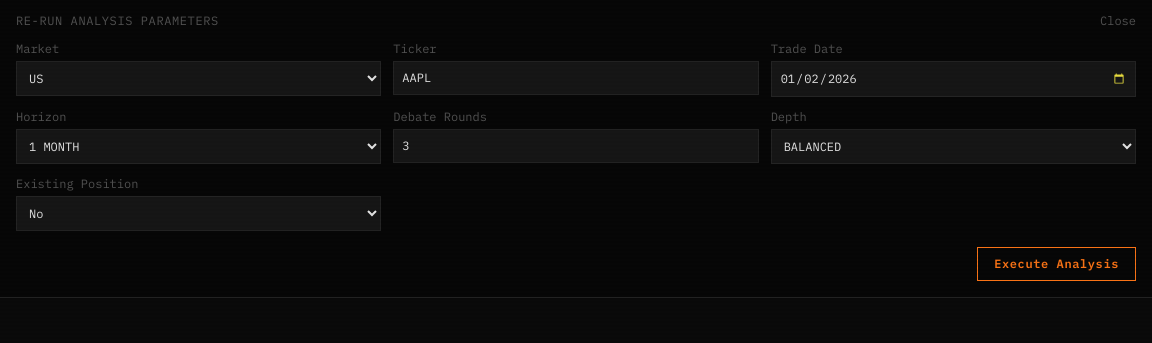
Test: RerunPanel › shows a validation error instead of submitting
The width and height of the screenshot is (1152, 343).
Empty ticker passes browser constraint validation but fails the domain check.
Clear the field labelled "Ticker" at (576, 78), box 393,61 -> 759,95
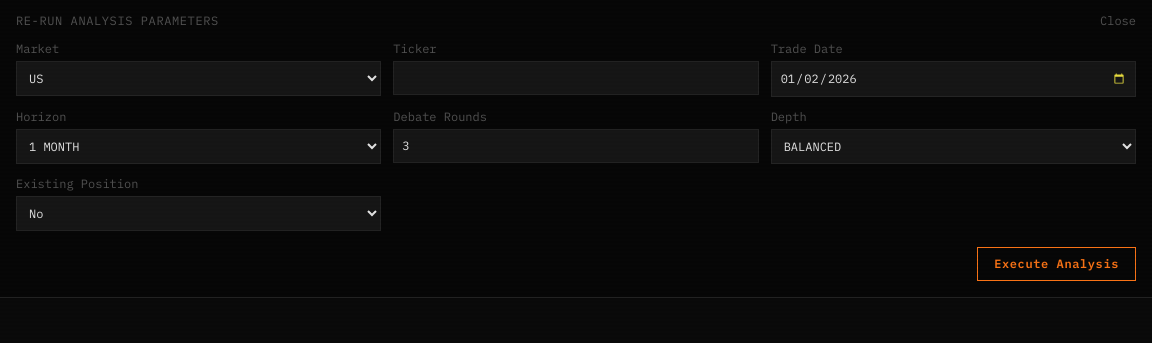
Click the button "Execute Analysis" at (1057, 264), box 977,247 -> 1136,281
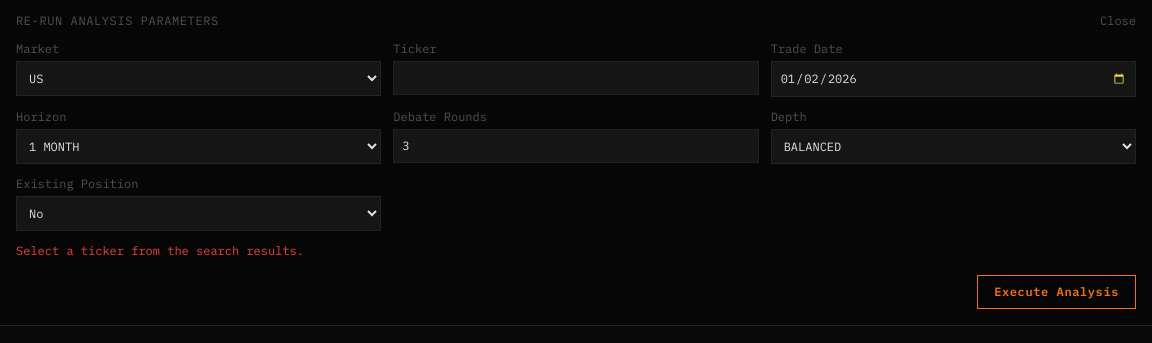
Result: the text "Select a ticker from the search results." is shown at 16,243 -> 304,258
